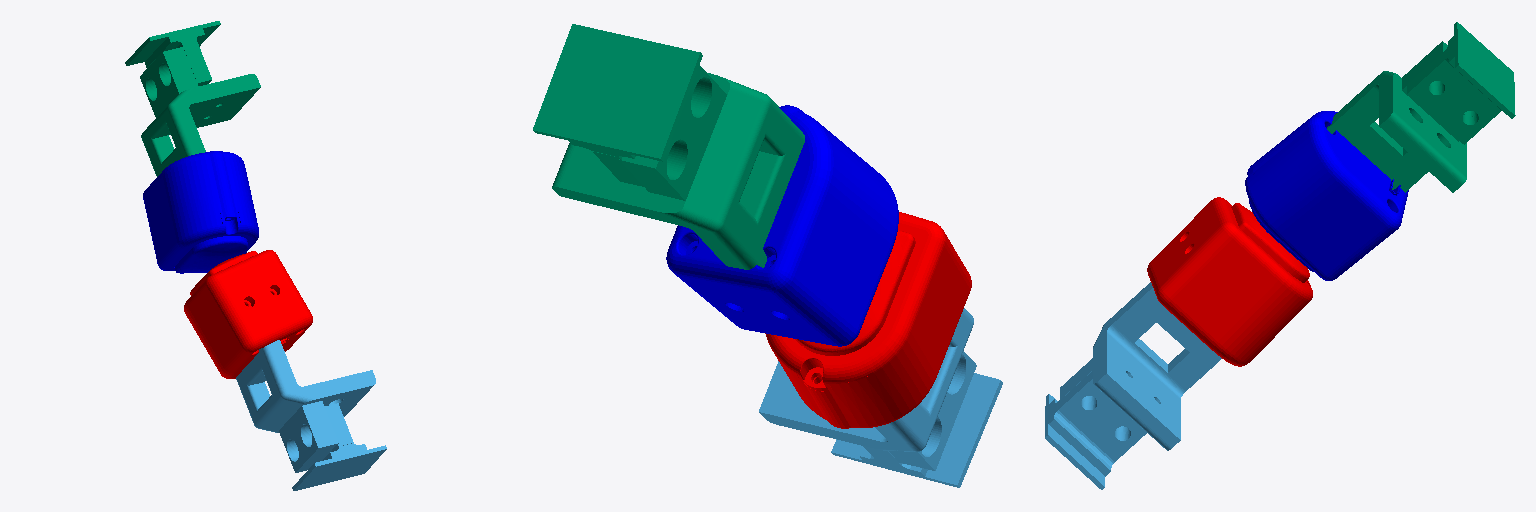
robot.urdf — panda:
<?xml version="1.0" ?>
<robot name="panda" xmlns:xacro="http://www.ros.org/wiki/xacro">
    <link name="panda_link0">
        <visual>
            <geometry>
                <mesh filename="../../urdf/franka_description/meshes/visual/link0.dae"/>
            </geometry>
        </visual>
        <collision>
            <geometry>
                <mesh filename="../../urdf/franka_description/meshes/collision/link0.obj"/>
            </geometry>
        </collision>
    </link>
    <link name="panda_link1">
        <visual>
            <geometry>
                <mesh filename="../../urdf/franka_description/meshes/visual/link1.dae"/>
            </geometry>
        </visual>
        <collision>
            <geometry>
                <mesh filename="../../urdf/franka_description/meshes/collision/link1.obj"/>
            </geometry>
        </collision>
    </link>
    <joint name="panda_joint1" type="revolute">
        <origin rpy="0 0 0" xyz="0 0 0.333"/>
        <parent link="panda_link0"/>
        <child link="panda_link1"/>
        <axis xyz="0 0 1"/>
        <dynamics damping="10.0"/>
        <limit effort="87" lower="-2.8973" upper="2.8973" velocity="2.1750"/>
    </joint>
    <link name="panda_link2">
        <visual>
            <geometry>
                <mesh filename="../../urdf/franka_description/meshes/visual/link2.dae"/>
            </geometry>
        </visual>
        <collision>
            <geometry>
                <mesh filename="../../urdf/franka_description/meshes/collision/link2.obj"/>
            </geometry>
        </collision>
    </link>
    <joint name="panda_joint2" type="revolute">
        <origin rpy="-1.57079632679 0 0" xyz="0 0 0"/>
        <parent link="panda_link1"/>
        <child link="panda_link2"/>
        <axis xyz="0 0 1"/>
        <dynamics damping="10.0"/>
        <limit effort="87" lower="-1.7628" upper="1.7628" velocity="2.1750"/>
    </joint>
    <link name="panda_link3">
        <visual>
            <geometry>
                <mesh filename="../../urdf/franka_description/meshes/visual/link3.dae"/>
            </geometry>
        </visual>
        <collision>
            <geometry>
                <mesh filename="../../urdf/franka_description/meshes/collision/link3.obj"/>
            </geometry>
        </collision>
    </link>
    <joint name="panda_joint3" type="revolute">
        <origin rpy="1.57079632679 0 0" xyz="0 -0.316 0"/>
        <parent link="panda_link2"/>
        <child link="panda_link3"/>
        <axis xyz="0 0 1"/>
        <dynamics damping="10.0"/>
        <limit effort="87" lower="-2.8973" upper="2.8973" velocity="2.1750"/>
    </joint>
    <link name="panda_link4">
        <visual>
            <geometry>
                <mesh filename="../../urdf/franka_description/meshes/visual/link4.dae"/>
            </geometry>
        </visual>
        <collision>
            <geometry>
                <mesh filename="../../urdf/franka_description/meshes/collision/link4.obj"/>
            </geometry>
        </collision>
    </link>
    <joint name="panda_joint4" type="revolute">
        <origin rpy="1.57079632679 0 0" xyz="0.0825 0 0"/>
        <parent link="panda_link3"/>
        <child link="panda_link4"/>
        <axis xyz="0 0 1"/>    
        <dynamics damping="10.0"/>
        <limit effort="87" lower="-3.0718" upper="-0.0698" velocity="2.1750"/>
    </joint>
    <link name="panda_link5">
        <visual>
            <geometry>
                <mesh filename="../../urdf/franka_description/meshes/visual/link5.dae"/>
            </geometry>
        </visual>
        <collision>
            <geometry>
                <mesh filename="../../urdf/franka_description/meshes/collision/link5.obj"/>
            </geometry>
        </collision>
    </link>
    <joint name="panda_joint5" type="revolute">
        <origin rpy="-1.57079632679 0 0" xyz="-0.0825 0.384 0"/>
        <parent link="panda_link4"/>
        <child link="panda_link5"/>
        <axis xyz="0 0 1"/>
        <dynamics damping="10.0"/>
        <limit effort="12" lower="-2.8973" upper="2.8973" velocity="2.6100"/>
    </joint>
    <link name="panda_link6">
        <visual>
            <geometry>
                <mesh filename="../../urdf/franka_description/meshes/visual/link6.dae"/>
            </geometry>
        </visual>
        <collision>
            <geometry>
                <mesh filename="../../urdf/franka_description/meshes/collision/link6.obj"/>
            </geometry>
        </collision>
    </link>
    <joint name="panda_joint6" type="revolute">
        <origin rpy="1.57079632679 0 0" xyz="0 0 0"/>
        <parent link="panda_link5"/>
        <child link="panda_link6"/>
        <axis xyz="0 0 1"/>
        <dynamics damping="10.0"/>
        <limit effort="12" lower="-0.0175" upper="3.7525" velocity="2.6100"/>
    </joint>
    <link name="panda_link7">
        <visual>
            <geometry>
                <mesh filename="../../urdf/franka_description/meshes/visual/link7.dae"/>
            </geometry>
        </visual>
        <collision>
            <geometry>
                <mesh filename="../../urdf/franka_description/meshes/collision/link7.obj"/>
            </geometry>
        </collision>
    </link>
    <joint name="panda_joint7" type="revolute">
        <origin rpy="1.57079632679 0 0" xyz="0.088 0 0"/>
        <parent link="panda_link6"/>
        <child link="panda_link7"/>
        <axis xyz="0 0 1"/>
        <!--<dynamics damping="10.0"/>-->
        <!--<limit effort="12" lower="-2.8973" upper="2.8973" velocity="2.6100"/>-->
    </joint>
    <!--
    <link name="panda_link8"/>
    <joint name="panda_joint8" type="fixed">
        <origin rpy="0 0 0" xyz="0 0 0.107"/>
        <parent link="panda_link7"/>
        <child link="panda_link8"/>
        <axis xyz="0 0 0"/>
    </joint>
    -->
    <joint name="panda_hand_joint" type="fixed">
        <parent link="panda_link7"/>
        <child link="panda_hand"/>
        <origin rpy="0 0 -0.785398163397" xyz="0 0 0.107"/>
    </joint>
    <link name="panda_hand">
        <visual>
            <geometry>
                <mesh filename="../../urdf/franka_description/meshes/visual/hand.dae"/>
            </geometry>
        </visual>
        <collision>
            <geometry>
                <mesh filename="../../urdf/franka_description/meshes/collision/hand.obj"/>
            </geometry>
        </collision>
    </link>
    
    <joint name="panda_finger_joint1" type="prismatic">
        <parent link="panda_hand"/>
        <child link="panda_leftfinger"/>
        <origin rpy="0 0 0" xyz="0 0.03 0.095"/>
        <axis xyz="0 1 0"/>
        <dynamics damping="10.0"/>
        <limit effort="200" lower="0.0" upper="0.04" velocity="0.2"/>
    </joint>
    <joint name="panda_finger_joint2" type="prismatic">
        <parent link="panda_hand"/>
        <child link="panda_rightfinger"/>
        <origin rpy="0 0 0" xyz="0 -0.03 0.095"/>
        <axis xyz="0 -1 0"/>
        <dynamics damping="10.0"/>
        <limit effort="200" lower="0.0" upper="0.04" velocity="0.2"/>
    </joint>

    <link name="panda_leftfinger">
      <inertial>
        <origin rpy="0 0 0" xyz="0 0 0"/>
        <mass value="0.0140552232"/>
        <inertia ixx="4.20413082650939E-06" ixy="0.0" ixz="0.0" iyy="3.90263687466755E-06" iyz="0" izz="1.33474964199095E-06"/>
      </inertial>
      <visual>
        <origin rpy="1.57 0 3.14" xyz="0 0 0.01"/>
        <geometry>
          <mesh filename="../../urdf/franka_description_digit/meshes/visual/digit_attachment.obj"/>
        </geometry>
      </visual>
      <collision>
        <origin rpy="0 0 0" xyz="0 0 -0.03"/>
        <geometry>
          <mesh filename="../../urdf/franka_description_digit/meshes/collision/finger.obj"/>
        </geometry>
      </collision>
    </link>

    <link name="panda_rightfinger">    
      <inertial>
        <origin rpy="1.57 0 0" xyz="0 0 0"/>
        <mass value="0.0140552232"/>
        <inertia ixx="4.20413082650939E-06" ixy="0.0" ixz="0.0" iyy="3.90263687466755E-06" iyz="0" izz="1.33474964199095E-06"/>
      </inertial>
      <visual>
        <origin rpy="1.57 0 0" xyz="0 0 0.01"/>
        <geometry>
          <mesh filename="../../urdf/franka_description_digit/meshes/visual/digit_attachment.obj"/>
        </geometry>
      </visual>
      <collision>
        <origin rpy="0 0 3.14159265359" xyz="0 0 -0.03"/>
        <geometry>
          <mesh filename="../../urdf/franka_description_digit/meshes/collision/finger.obj"/>
        </geometry>
      </collision>
    </link>

    <!--Used for calculating pose and Jacobian.
    Joint connects hand to dummy link located at midpoint between bottoms of fingertips (when centered).-->
    <joint name="panda_fingertip_centered_joint" type="fixed">
        <parent link="panda_hand"/>
        <child link="panda_fingertip_centered"/>
        <!--0.0584 (franka_hand_length) + 0.04486700 (franka_finger_length) + 0.01760800 * 0.5 (franka_fingerpad_length * 0.5) = 0.112071-->
        <origin rpy="0 0 0" xyz="0 0 0.112071"/>
    </joint>
    <link name="panda_fingertip_centered"/>

    <!-- <joint name="panda_leftfinger_tip_joint" type="fixed">
        <parent link="panda_leftfinger"/>
        <child link="panda_leftfinger_tip"/>
        <origin rpy="0 0 0" xyz="0.0 0.0015 0.0441"/>
    </joint>
    <link name="panda_leftfinger_tip">
        <visual>
            <geometry>
                <sphere radius="0.005"/>
            </geometry>
            <material name="left"><color rgba="1.0 0.0 0.0 1.0"/></material>
        </visual>
    </link>

    <joint name="panda_rightfinger_tip_joint" type="fixed">
        <parent link="panda_rightfinger"/>
        <child link="panda_rightfinger_tip"/>
        <origin rpy="0 0 0" xyz="0.0 -0.0015 0.0441"/>
    </joint>
    <link name="panda_rightfinger_tip">
        <visual>
            <geometry>
                <sphere radius="0.005"/>
            </geometry>
            <material name="right"><color rgba="0.0 0.0 1.0 1.0"/></material>
        </visual>
    </link> -->

    <joint name="panda_leftfinger_tip_joint" type="fixed">
     <!-- <origin xyz="0.0 0.0441 0.0058" rpy="-1.57 0 -1.57" /> -->
     <origin xyz="0.0 -0.0075 0.0108" rpy="-1.57 -0.17 -1.57" />
     <parent link="panda_leftfinger"/>
     <child link="panda_leftfinger_tip" />
     <!-- <axis xyz="0 1 0"/>
     <limit effort="100" velocity="100"/> -->
  </joint>

  <link name="panda_leftfinger_tip">
    <contact>
        <friction_anchor/>
        <lateral_friction value="10"/>
        <rolling_friction value="0.1"/>
        <contact_cfm value="0.0"/>
        <contact_erp value="1.0"/>
    </contact>
      <visual>
          <geometry>
             <mesh filename="../../urdf/franka_description_digit/digit_center/digit_center_cam.stl"/>
          </geometry>
          <material name="red">
            <color rgba="1. 0. 0. 1"/>
          </material>
      </visual>
      <collision>
          <geometry>
            <!-- <box size="0.013 0.004 0.013"/> -->
            <box size="0.03 0.03 0.03"/>
          </geometry>
     </collision>
  </link>

  <joint name="panda_rightfinger_tip_joint" type="fixed">
     <origin xyz="0.0 0.008 0.0108" rpy="-1.57 -0.17 1.57" />
      <!-- <origin xyz="0.0 0.008 -0.0" rpy="0 3.14 -1.57" /> -->
     <!-- <origin xyz="-0.06 0.045 0.0" rpy="-3.14 -0.12 -3.14" /> -->
     <parent link="panda_rightfinger"/>
     <child link="panda_rightfinger_tip" />
  </joint>

  <link name="panda_rightfinger_tip">
    <contact>
        <friction_anchor/>
        <lateral_friction value="10"/>
        <rolling_friction value="0.1"/>
        <contact_cfm value="0.0"/>
        <contact_erp value="1.0"/>
    </contact>
    <visual>
          <geometry>
             <mesh filename="../../urdf/franka_description_digit/digit_center/digit_center_cam.stl"/>
          </geometry>
          <!-- <geometry>
                <sphere radius="0.005"/>
            </geometry> -->
          <material name="blue">
            <color rgba="0. 0. 1. 1"/>
          </material>
    </visual>
    <collision>
        <geometry>
            <!-- <box size="0.013 0.004 0.013"/> -->
            <box size="0.03 0.03 0.03"/>
        </geometry>
    </collision>
  </link>


</robot>

--- Render facts (derived) ---
The picture shows the robot from 3 angles, left to right: view 1: azimuth 30°, elevation 25°; view 2: azimuth 150°, elevation 25°; view 3: azimuth 270°, elevation 25°; orthographic projection.
Model panda with 14 links and 13 joints (7 revolute, 2 prismatic, 4 fixed), rooted at panda_link0, posed all joints at 0 but 1 set to mid-range because 0 is outside their limits (panda_joint4 = -1.57).
Visible links, largest first — view 1: panda_leftfinger, panda_rightfinger_tip, panda_leftfinger_tip, panda_rightfinger; view 2: panda_rightfinger, panda_rightfinger_tip, panda_leftfinger_tip, panda_leftfinger; view 3: panda_leftfinger, panda_rightfinger, panda_leftfinger_tip, panda_rightfinger_tip.
Boxes of the visible links, box(x1,y1,x2,y2) form: panda_leftfinger: box(236, 340, 386, 490); panda_rightfinger_tip: box(143, 151, 258, 273); panda_leftfinger_tip: box(184, 250, 312, 378); panda_rightfinger: box(125, 21, 260, 176); panda_rightfinger: box(533, 24, 804, 269); panda_rightfinger_tip: box(666, 105, 898, 346); panda_leftfinger_tip: box(765, 212, 971, 428); panda_leftfinger: box(759, 308, 1002, 487); panda_leftfinger: box(1045, 282, 1221, 489); panda_rightfinger: box(1327, 22, 1515, 192); panda_leftfinger_tip: box(1147, 197, 1312, 366); panda_rightfinger_tip: box(1245, 111, 1408, 280).
Bounding box of the posed robot: 0.0429 × 0.1193 × 0.1194 m (x, y, z).
Meshes: 11 distinct files referenced, 4 mesh visuals loaded (1 binary STL, 1 OBJ); not drawn: 9 (reference not matched to a file when rendering).